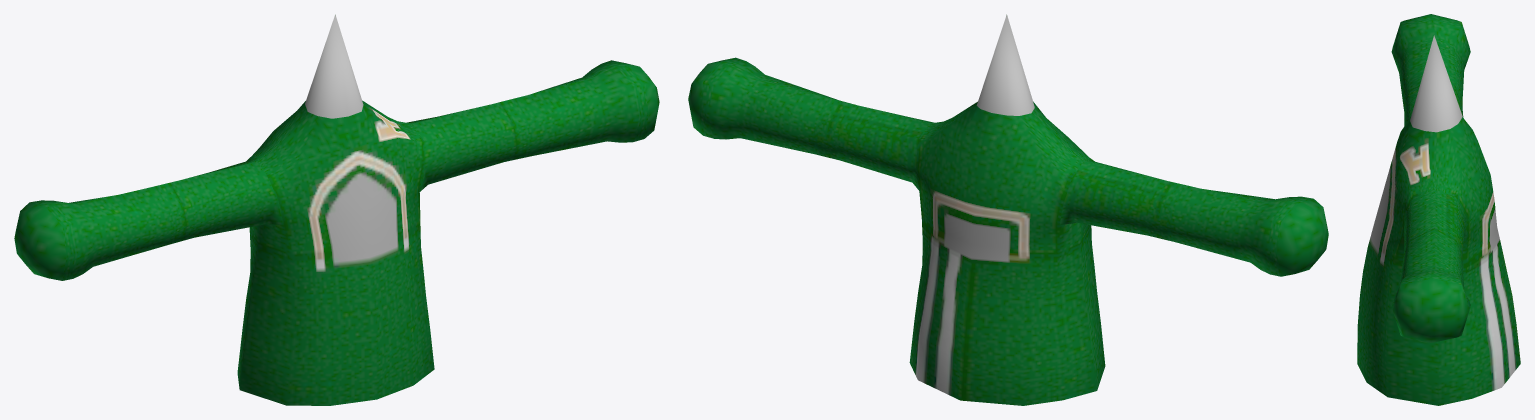
File: shirt.glb
The picture shows the model from 3 angles, left to right: view 1: azimuth 30°, elevation 25°; view 2: azimuth 150°, elevation 25°; view 3: azimuth 270°, elevation 25°; orthographic projection. The views are drawn at different scales.
Parts seen in each view (by area): view 1: bodyTops; view 2: bodyTops; view 3: bodyTops.
Boxes of the visible parts, bbox=[...] form: bodyTops: bbox=[14, 14, 659, 405]; bodyTops: bbox=[688, 14, 1328, 405]; bodyTops: bbox=[1357, 14, 1520, 405].
Bounding box in the file's own units: 14.34 × 7.73 × 3.48.
Materials: 1 (1 with a texture image).
